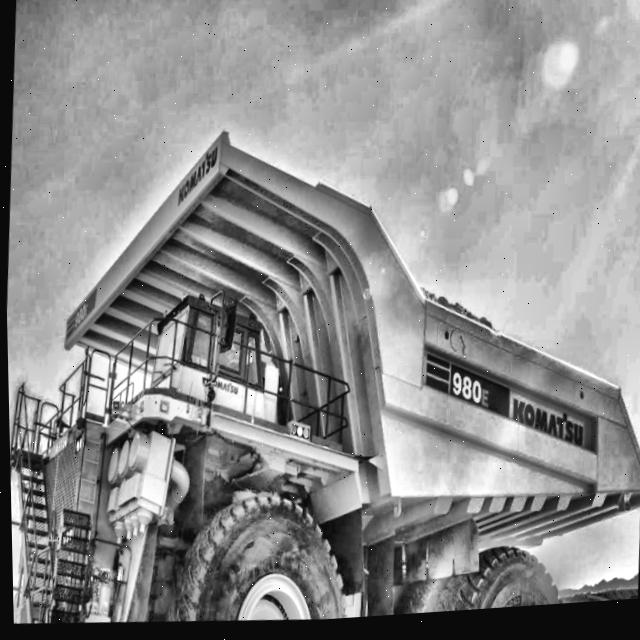dump_truck: (2, 77, 640, 640)
